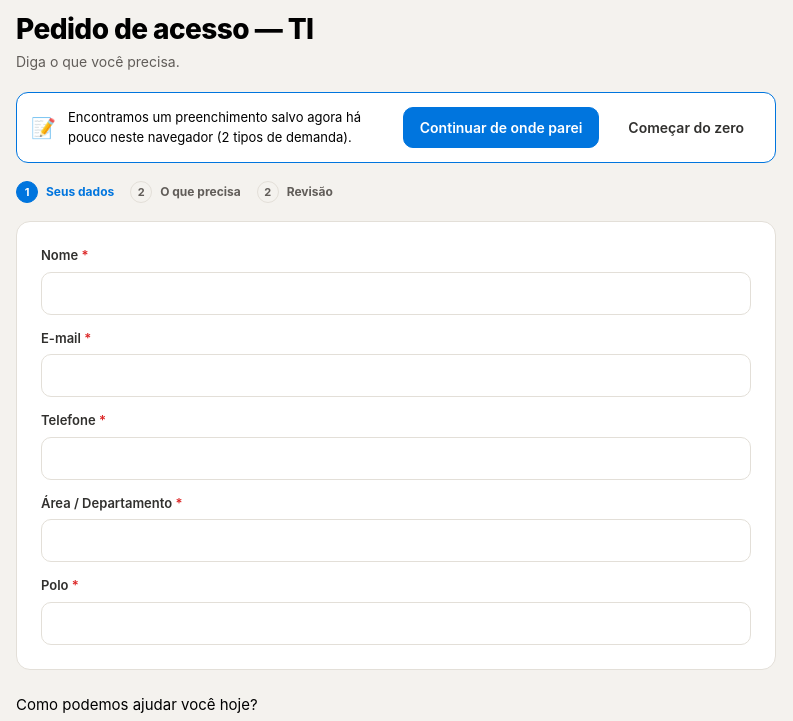
o rascunho local › ⚠️ seção APAGADA no editor não deixa a tela em branco
This screenshot has width=793, height=721.
Click the button "Continuar de onde parei".
click(501, 128)  # box [403,107,599,148]
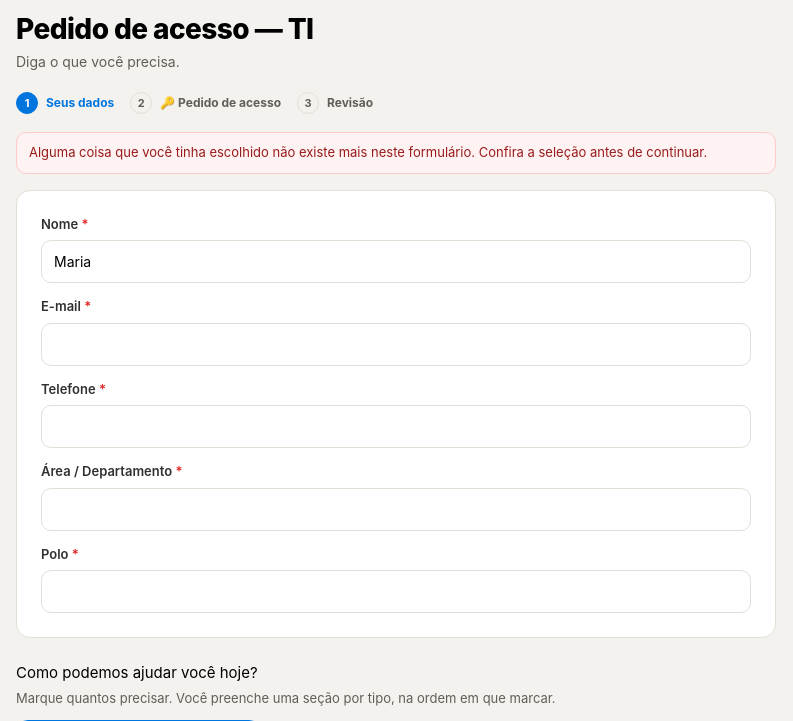
Expected: the field labelled "Nome *" is shown, [41,240,751,283]
Expected: the message shows "não existe mais", [29,144,707,160]
